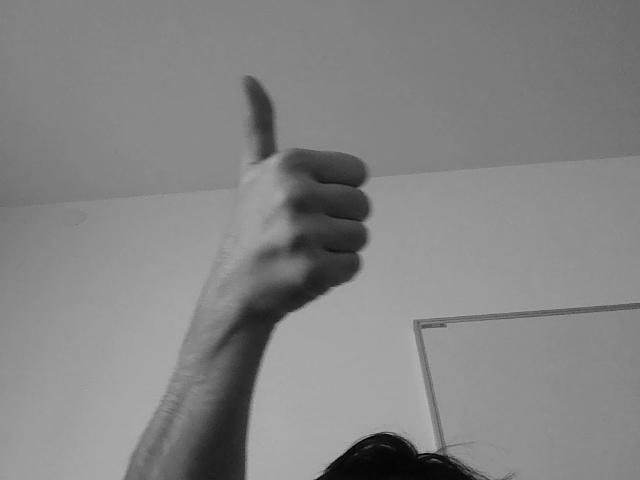good: (185, 70, 380, 337)
